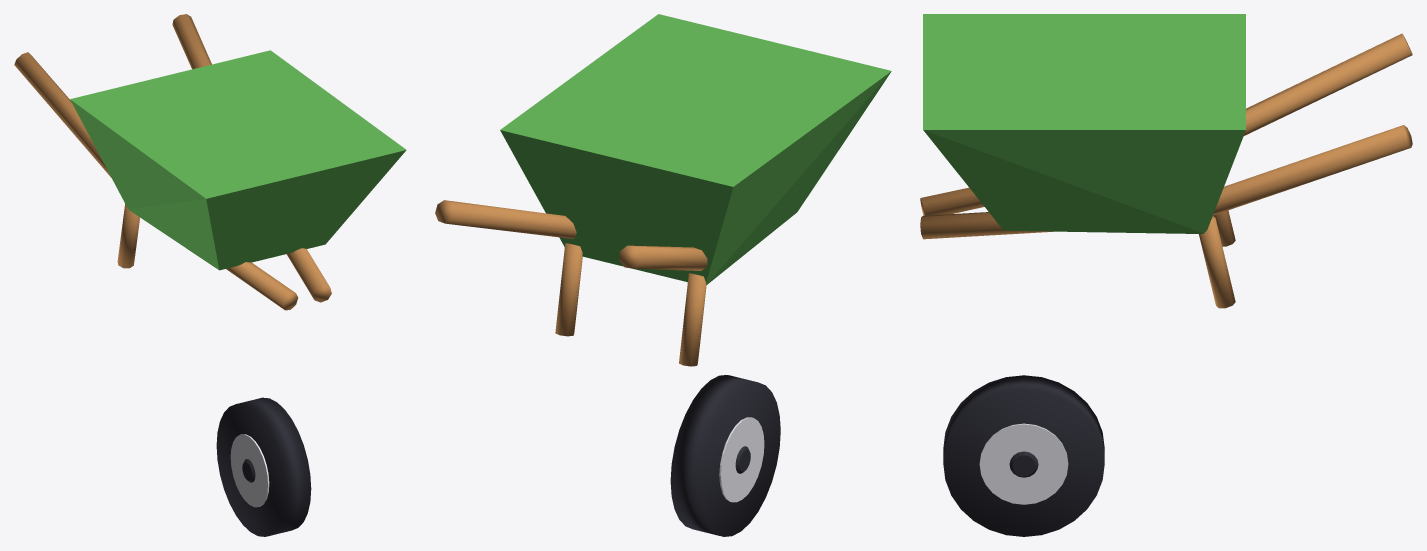
File: Car_Wheelbarrow.fbx
The picture shows the model from 3 angles, left to right: view 1: azimuth 30°, elevation 25°; view 2: azimuth 150°, elevation 25°; view 3: azimuth 270°, elevation 25°; orthographic projection. The views are drawn at different scales.
Parts seen in each view (by area): view 1: Car_Wheelbarrow, Wheel_F; view 2: Car_Wheelbarrow, Wheel_F; view 3: Car_Wheelbarrow, Wheel_F.
Part boxes in pixels (<box>): Car_Wheelbarrow: <box>14,14,406,310</box>; Wheel_F: <box>216,397,311,536</box>; Car_Wheelbarrow: <box>435,14,891,366</box>; Wheel_F: <box>670,375,780,536</box>; Car_Wheelbarrow: <box>920,14,1412,308</box>; Wheel_F: <box>943,375,1104,536</box>.
Size of the model in its own units: 0.68 by 1.25 by 1.22.
